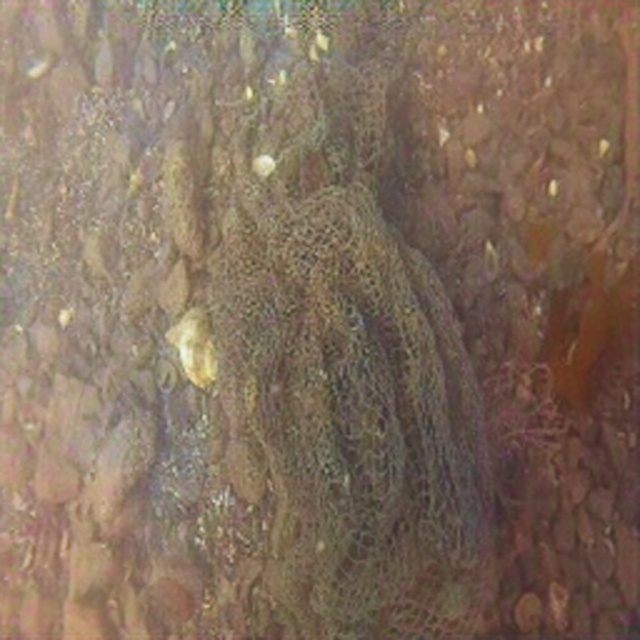mine: (206, 98, 495, 639)
